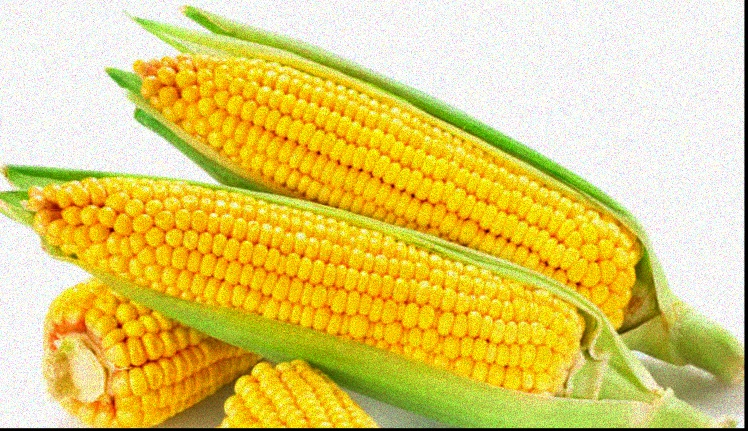corn: (127, 33, 740, 361), (12, 161, 660, 424)
